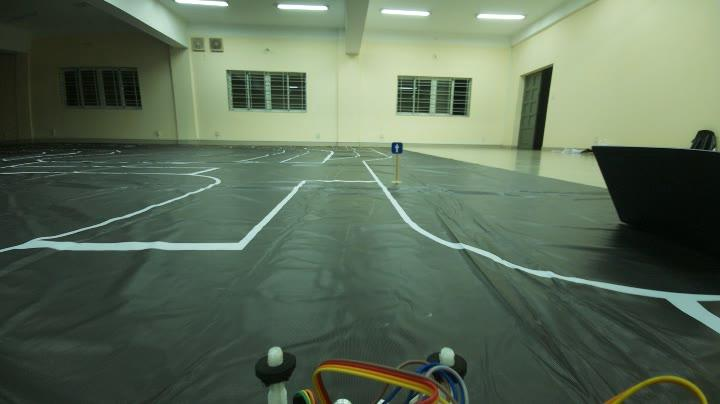onewayroad: (389, 138, 406, 158)
